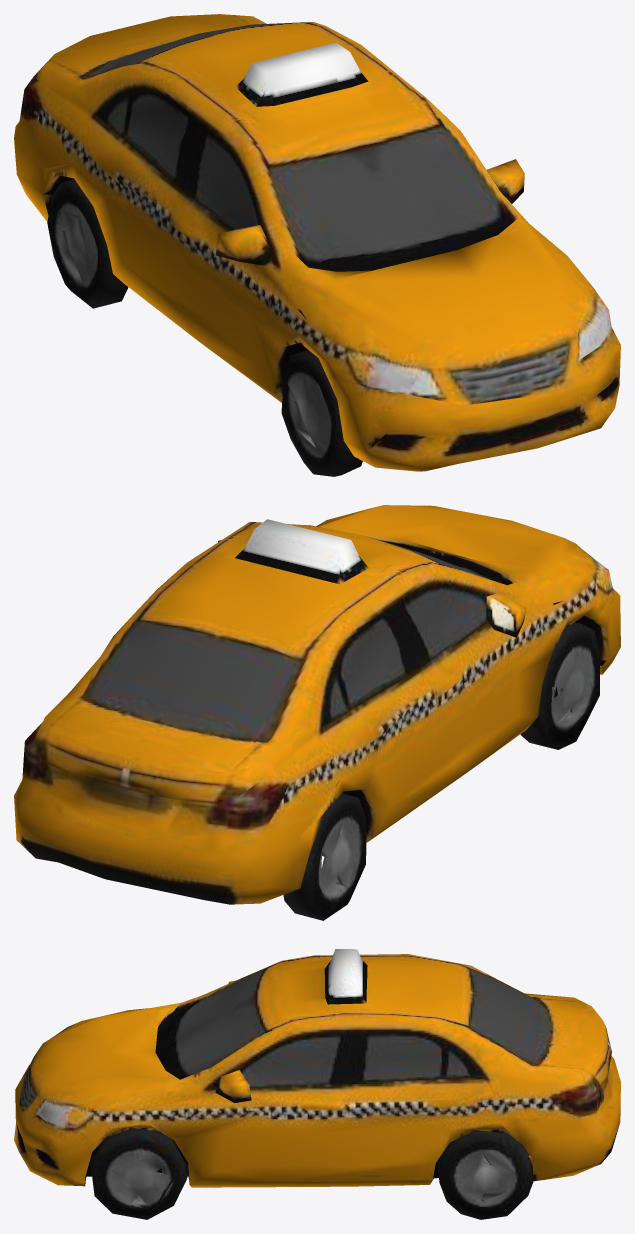
Rendered from chicago_taxi.glb.
The picture shows the model from 3 angles, top to bottom: view 1: azimuth 30°, elevation 25°; view 2: azimuth 150°, elevation 25°; view 3: azimuth 270°, elevation 25°; orthographic projection. The views are drawn at different scales.
Visible parts, largest first — view 1: chicago_taxi; view 2: chicago_taxi; view 3: chicago_taxi.
Part boxes in pixels (x1,y1,x2,y2): chicago_taxi: [14, 14, 620, 476]; chicago_taxi: [14, 505, 620, 920]; chicago_taxi: [14, 949, 620, 1219].
Bounding box in the file's own units: 2.09 × 1.89 × 4.92.
1 material, 1 textured.
